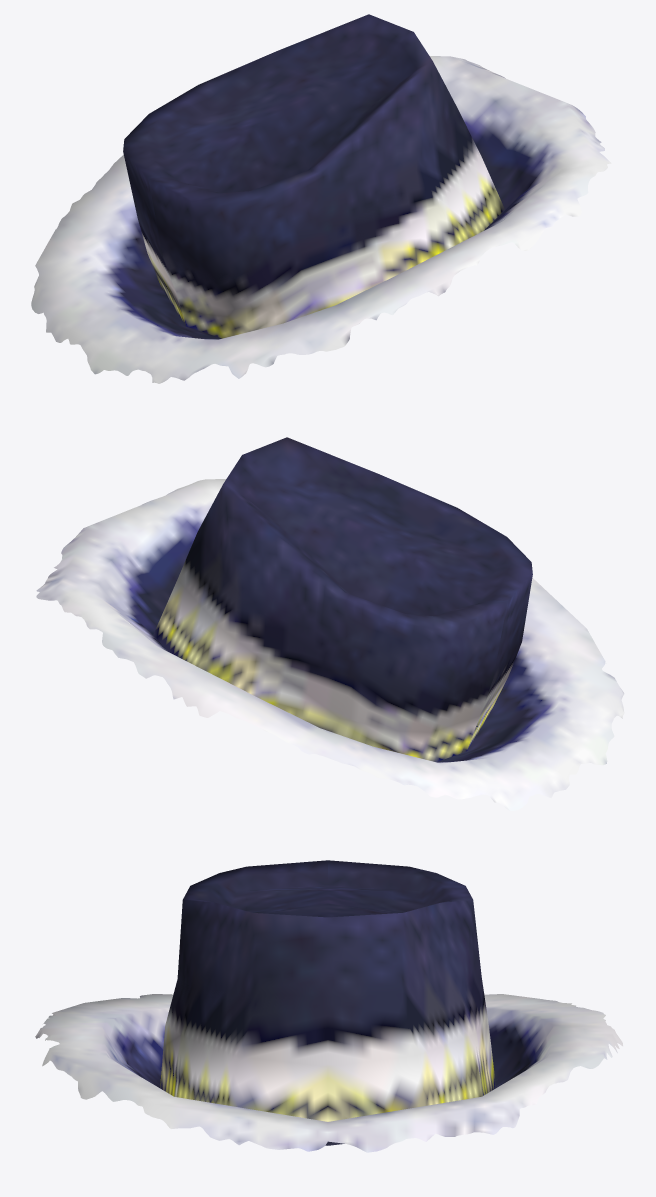
File: hat_0450004.FBX
The picture shows the model from 3 angles, top to bottom: view 1: azimuth 30°, elevation 25°; view 2: azimuth 150°, elevation 25°; view 3: azimuth 270°, elevation 25°; orthographic projection. The views are drawn at different scales.
Parts seen in each view (by area): view 1: hat_0450004; view 2: hat_0450004; view 3: hat_0450004.
Boxes of the visible parts, box(x1,y1,x2,y2) form: hat_0450004: box(31, 14, 611, 383); hat_0450004: box(36, 437, 624, 810); hat_0450004: box(35, 860, 622, 1152).
Bounding box in the file's own units: 46.06 × 21.3 × 38.6.
